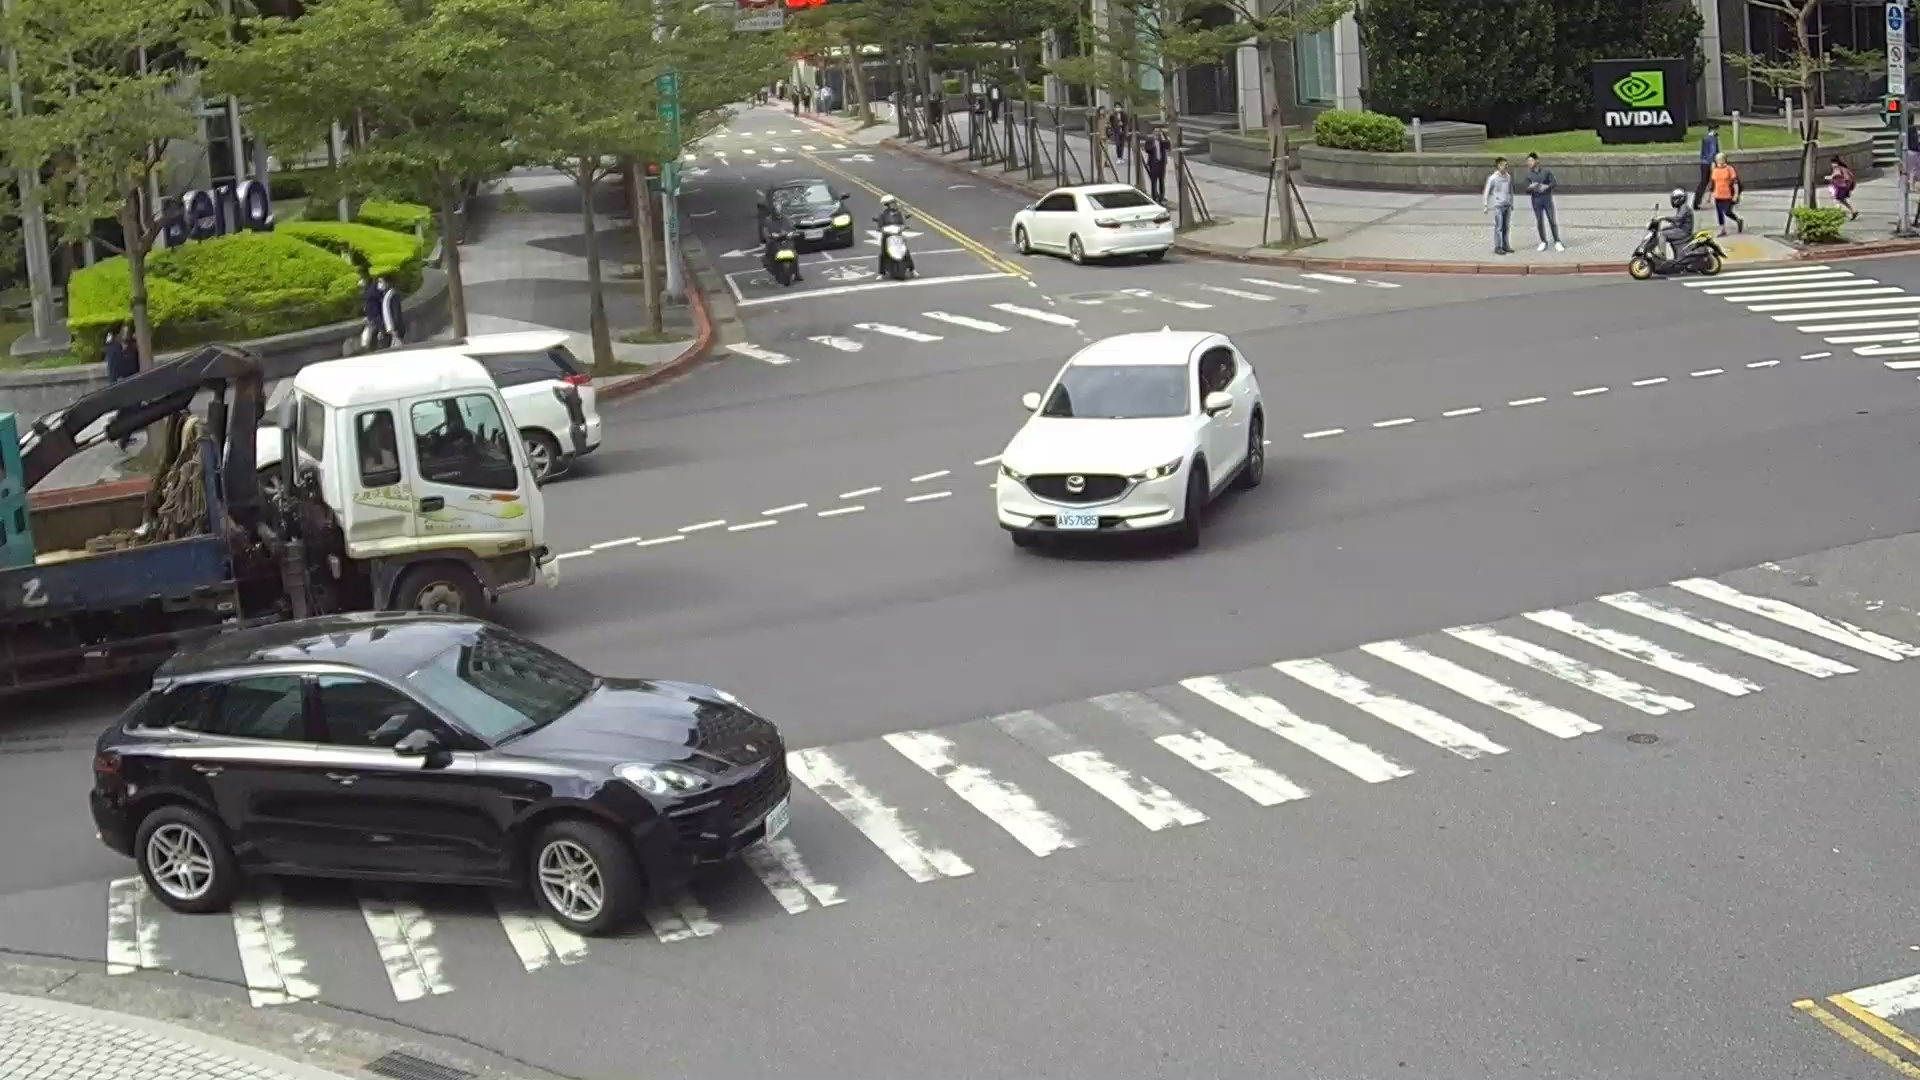bike: (1629, 213, 1724, 280), (874, 222, 915, 280), (767, 232, 802, 287)
pedestrian: (1522, 150, 1566, 252), (366, 268, 410, 348), (871, 195, 912, 270), (1484, 158, 1515, 252), (1708, 154, 1743, 234), (1657, 186, 1698, 254), (104, 323, 142, 383), (1692, 122, 1717, 206), (763, 196, 797, 259), (1825, 156, 1856, 218), (1143, 133, 1168, 198)
vehicle: (1, 339, 562, 740), (88, 614, 789, 929), (988, 326, 1266, 555), (461, 333, 600, 483), (1010, 184, 1177, 262), (754, 177, 855, 254)
